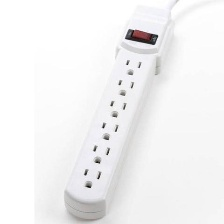three_eye_plug: (61, 0, 178, 222)
